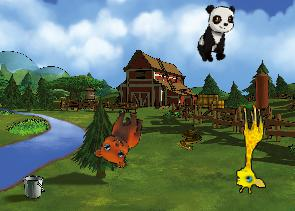bear: (92, 104, 145, 170)
giraffe: (231, 103, 266, 194)
panda: (195, 1, 237, 66)
